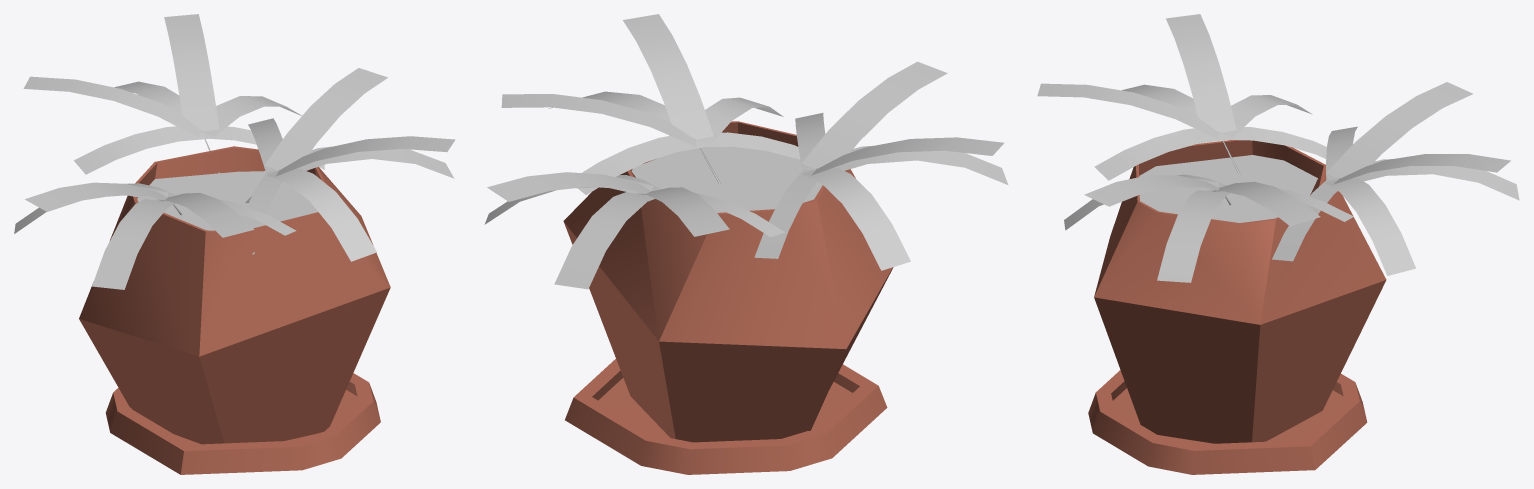
File: Orange001.FBX
3 renders of one model, left to right at view 1: azimuth 30°, elevation 25°; view 2: azimuth 150°, elevation 25°; view 3: azimuth 270°, elevation 25°, orthographic. The views are drawn at different scales.
Visible parts, largest first — view 1: Orange001; view 2: Orange001; view 3: Orange001.
Boxes of the visible parts, x1,y1,x2,y2 form: Orange001: [14, 14, 455, 474]; Orange001: [484, 14, 1008, 474]; Orange001: [1037, 14, 1519, 474].
Size of the model in its own units: 0.5679 by 0.372 by 0.5617.
